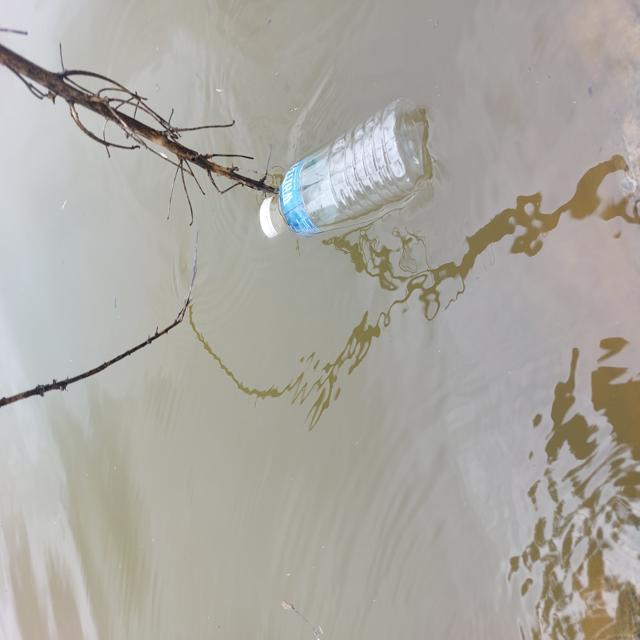waterbottle: (236, 99, 455, 242)
